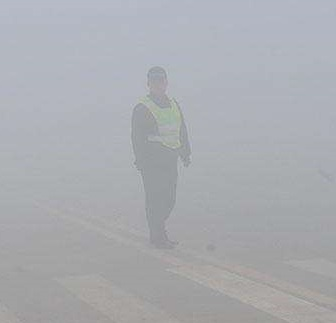person: (127, 63, 192, 250)
